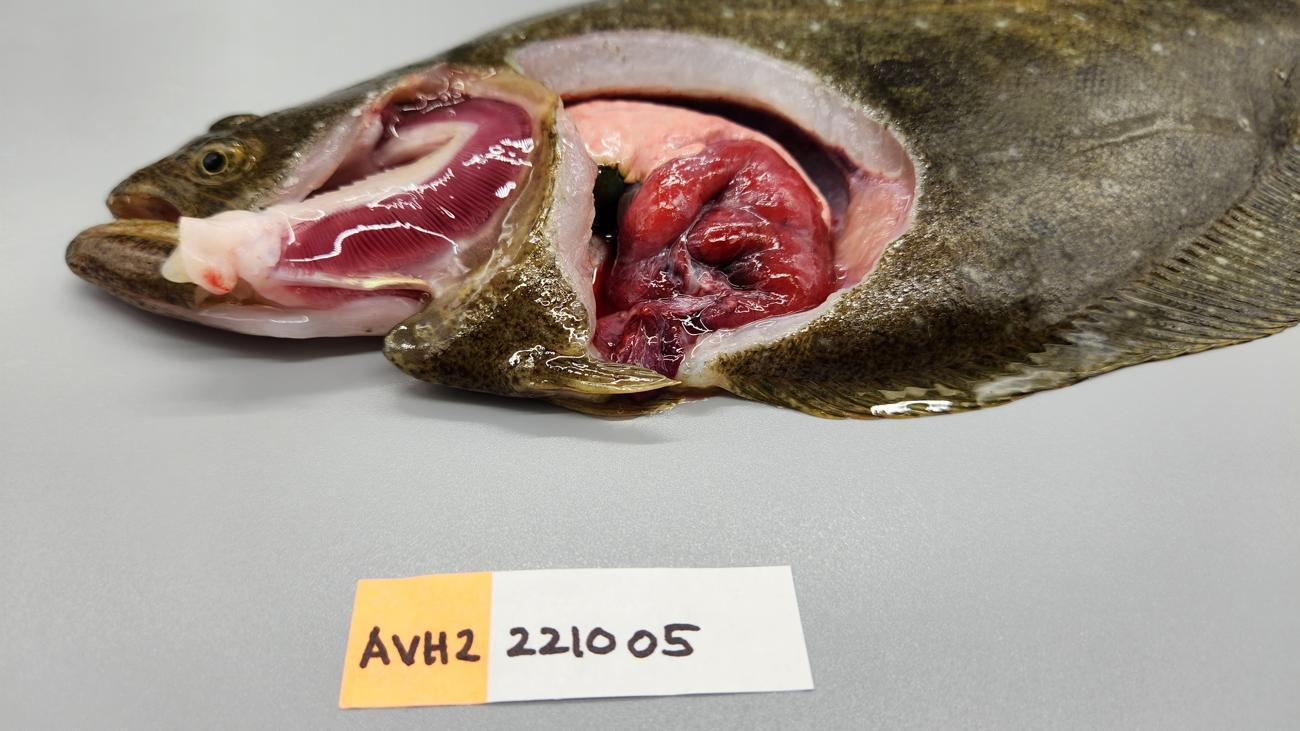VILII: (563, 101, 833, 227)
